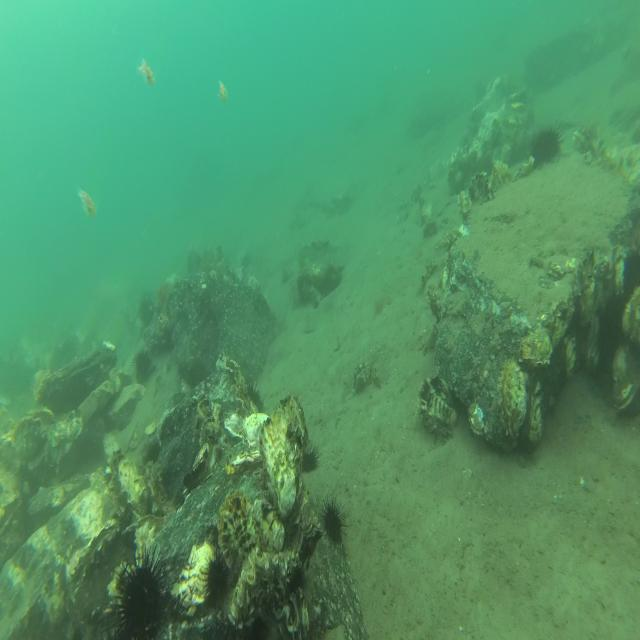echinus: (101, 543, 170, 640), (597, 293, 625, 362), (319, 490, 352, 548), (200, 549, 230, 604), (526, 123, 564, 166), (244, 370, 270, 414), (623, 248, 640, 298), (300, 440, 323, 474), (132, 348, 153, 380), (142, 437, 162, 468), (577, 122, 600, 145), (137, 298, 156, 325), (185, 247, 201, 275)
